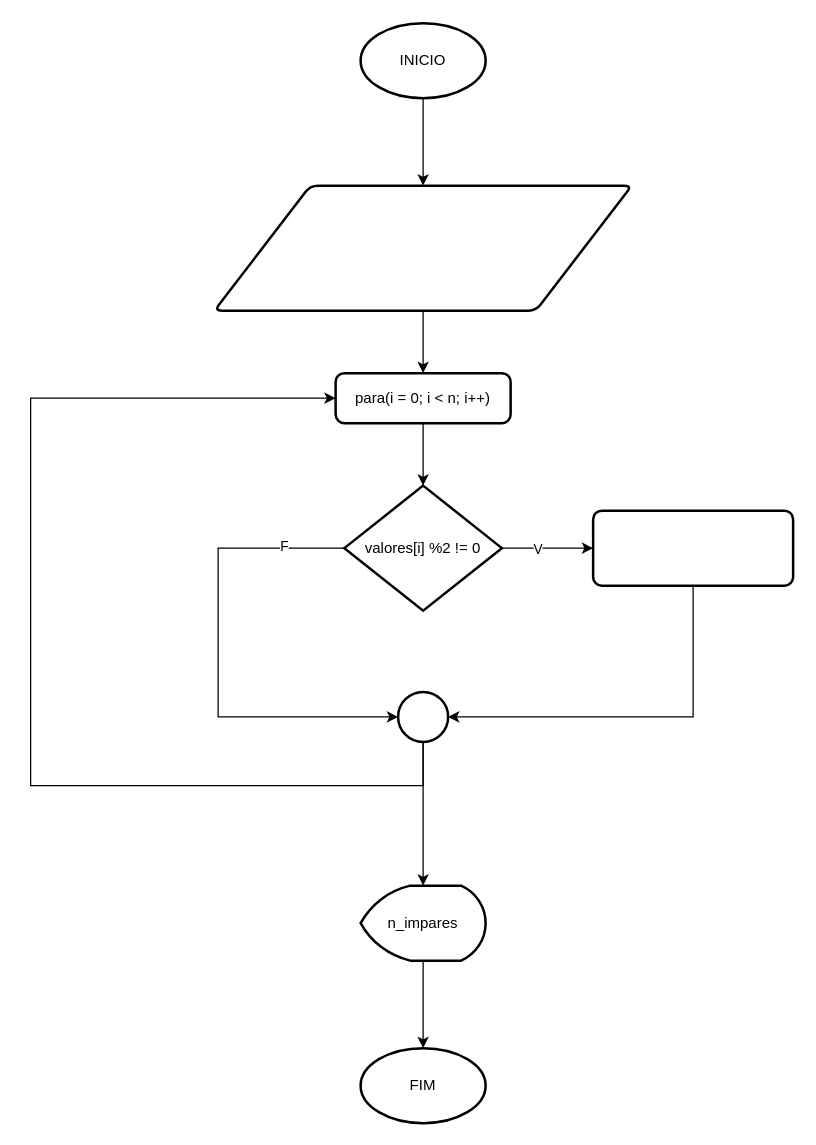
Image size: 816x1145. Some labels were removed from this diagram. The centre of each missing label's shape, as x and y in pixels:
n = 10 n_impares = 0 valores[10] = {10, 7, 8, 7, 6, 5, 3, 3, 2, 1}: pixel 422 247
n_impares = n_impares + 1: pixel 692 547
